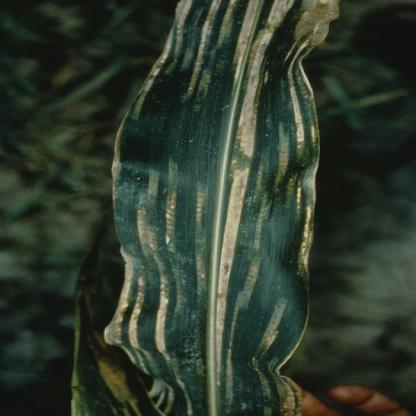Corn leaf blight: (116, 3, 337, 416)
